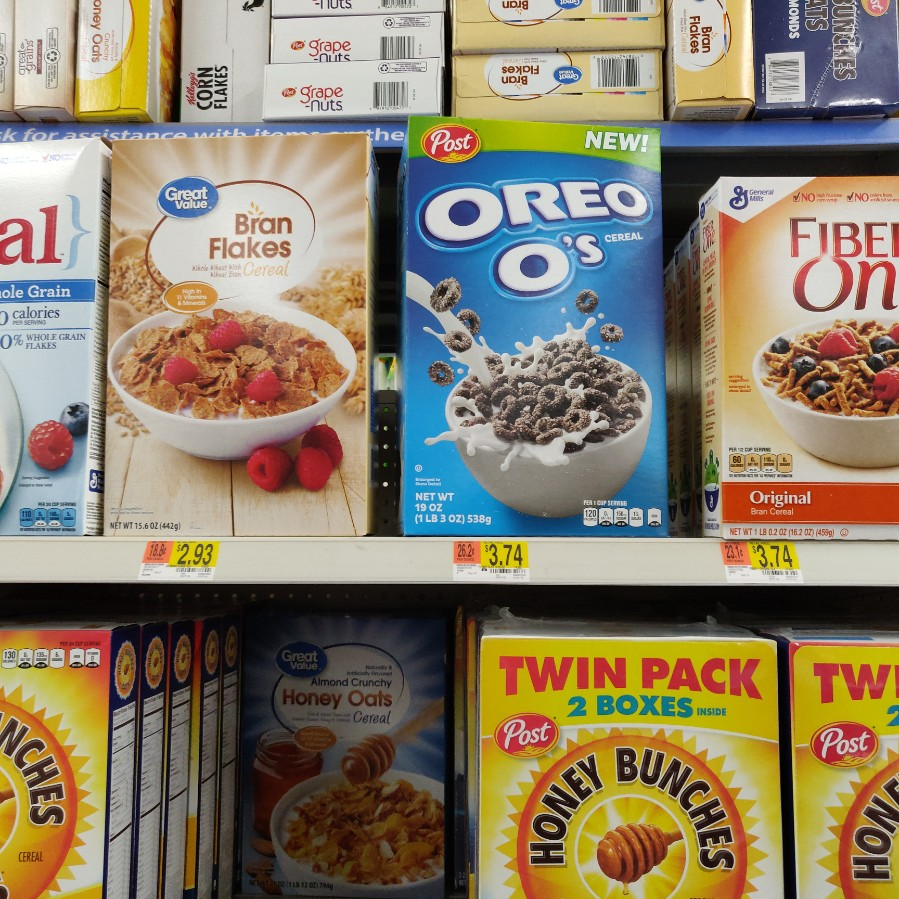Oreo-563424384: (404, 113, 676, 535)
